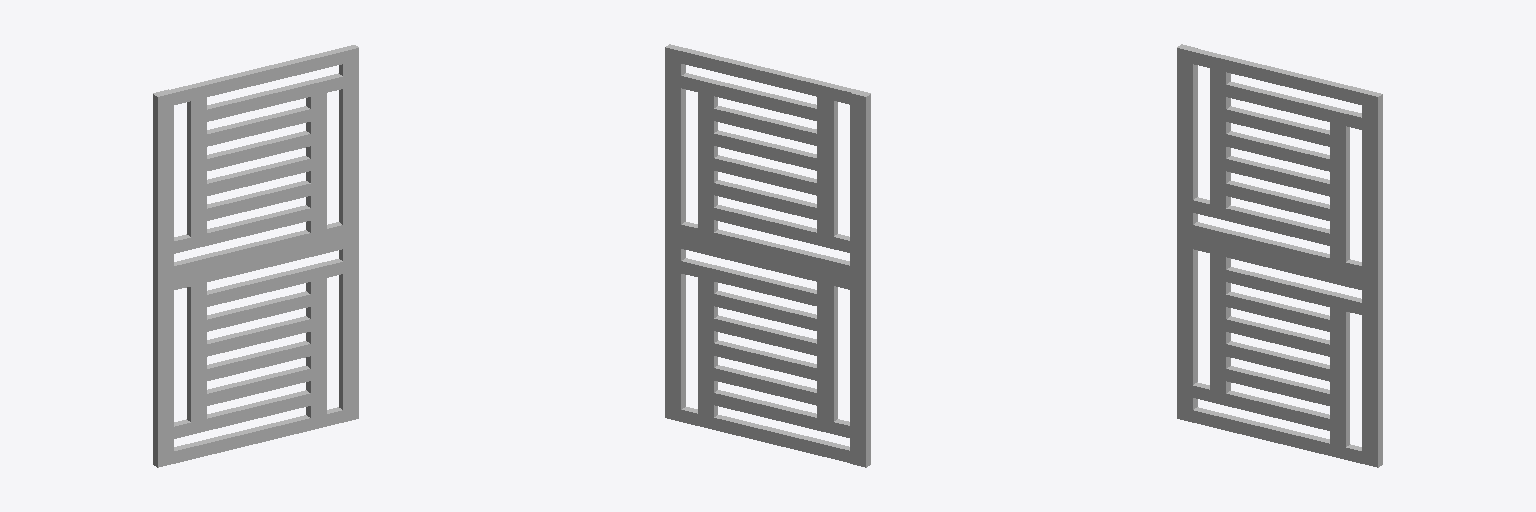
The model's file is puerta_1.obj.
3 renders of one model, left to right at view 1: azimuth 30°, elevation 25°; view 2: azimuth 150°, elevation 25°; view 3: azimuth 330°, elevation 25°, orthographic.
Visible parts, largest first — view 1: VENTANAS_EXTERIOR_Cube.034; view 2: VENTANAS_EXTERIOR_Cube.034; view 3: VENTANAS_EXTERIOR_Cube.034.
Part boxes in pixels (bbox=[...]): VENTANAS_EXTERIOR_Cube.034: bbox=[153, 45, 358, 467]; VENTANAS_EXTERIOR_Cube.034: bbox=[665, 44, 870, 467]; VENTANAS_EXTERIOR_Cube.034: bbox=[1177, 44, 1382, 467].
Bounding box in the file's own units: 2.28 × 3.99 × 0.0975.